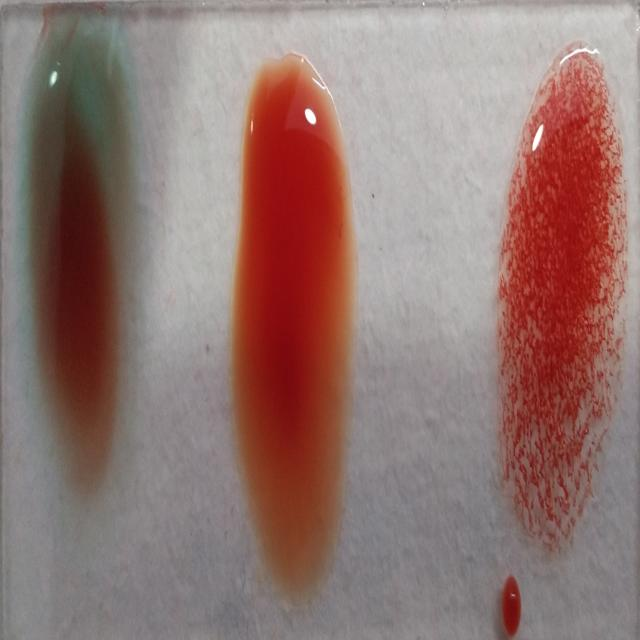D: (502, 35, 626, 533)
